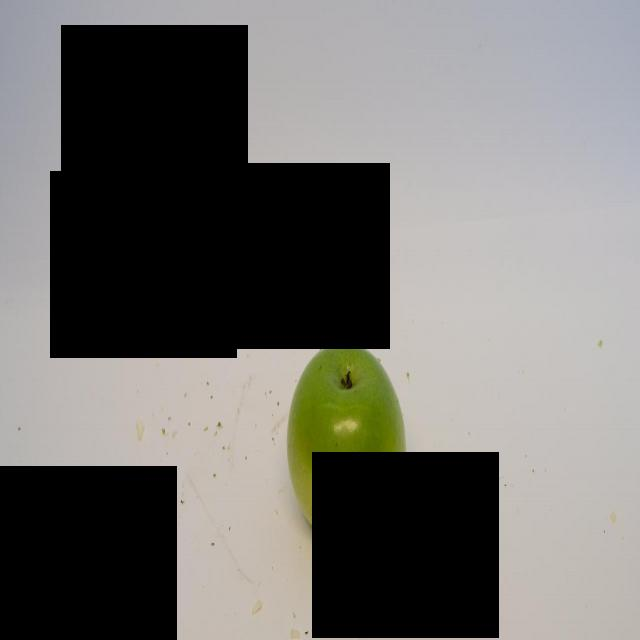apple: (286, 340, 407, 549)
